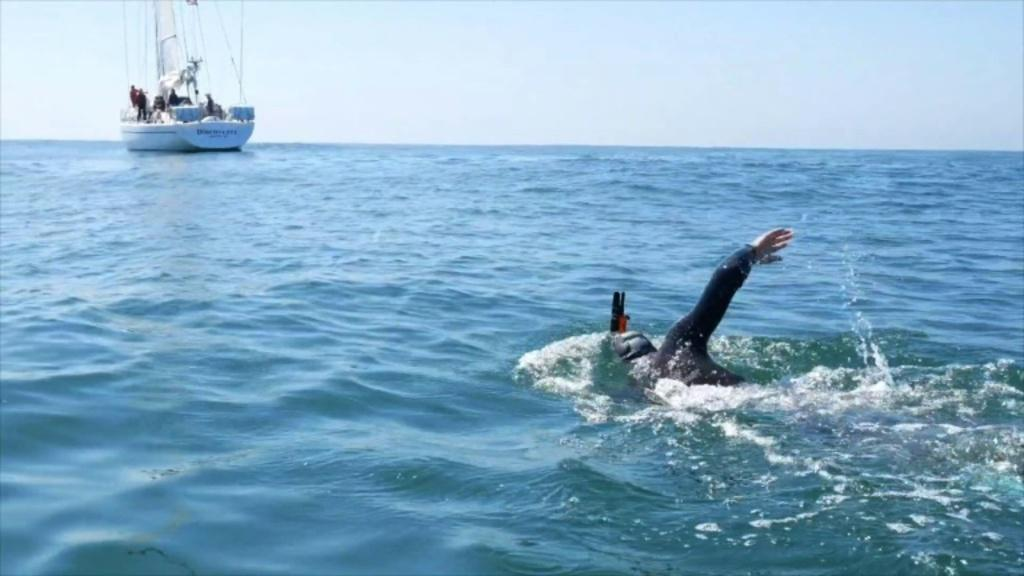human: (604, 221, 803, 408)
